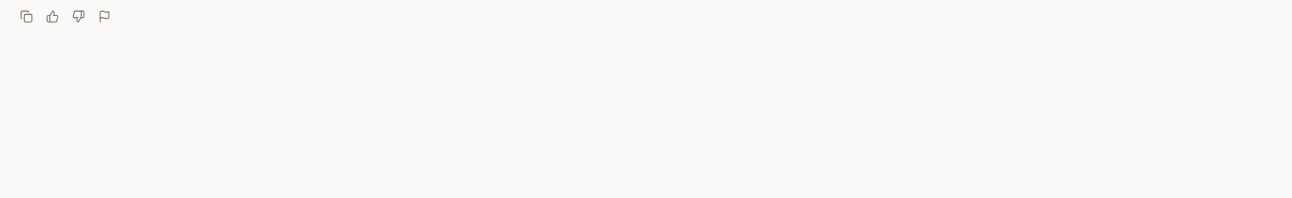
Test: V6 · a rating with no turnId hands off to the composer › keeps the send control disabled until the member has written something
Click the button named "Flag as inaccurate": (104, 16) left=92, top=4, right=116, bottom=28
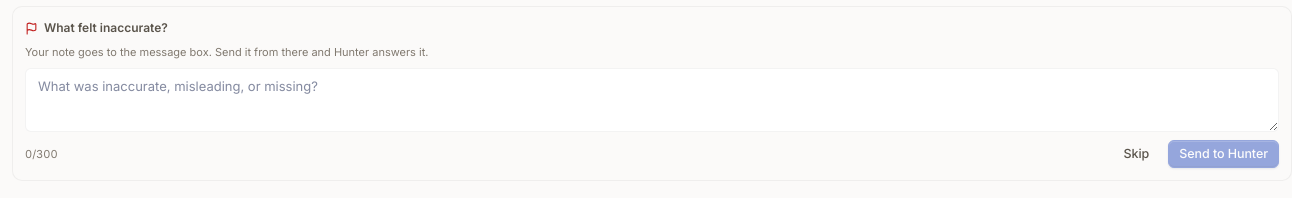
Check: the button "Send to Hunter" is disabled, box left=1168, top=140, right=1279, bottom=168
In the text box named "Feedback comment": (652, 100) left=25, top=68, right=1279, bottom=132, type "the deadline is wrong"
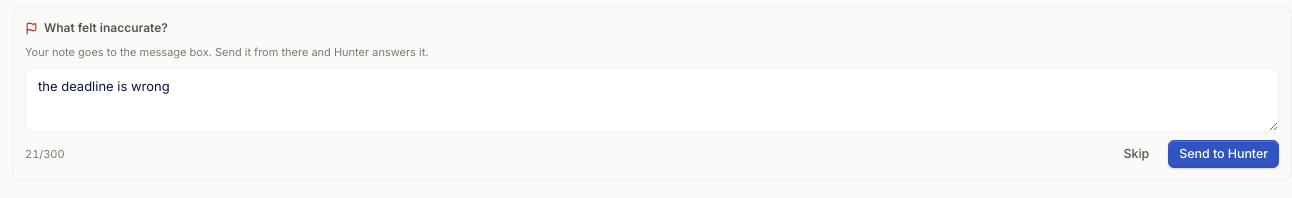
Check: the button "Send to Hunter" is enabled, box left=1168, top=140, right=1279, bottom=168
